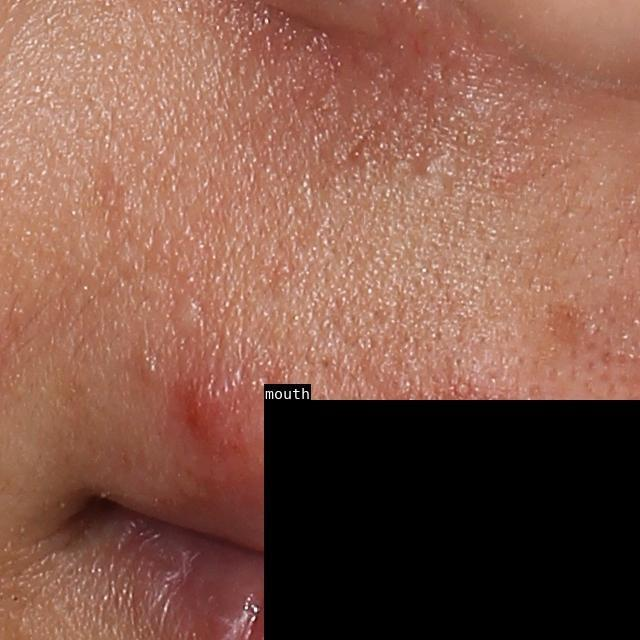comedo: (133, 359, 164, 389)
papule: (179, 378, 246, 448)
